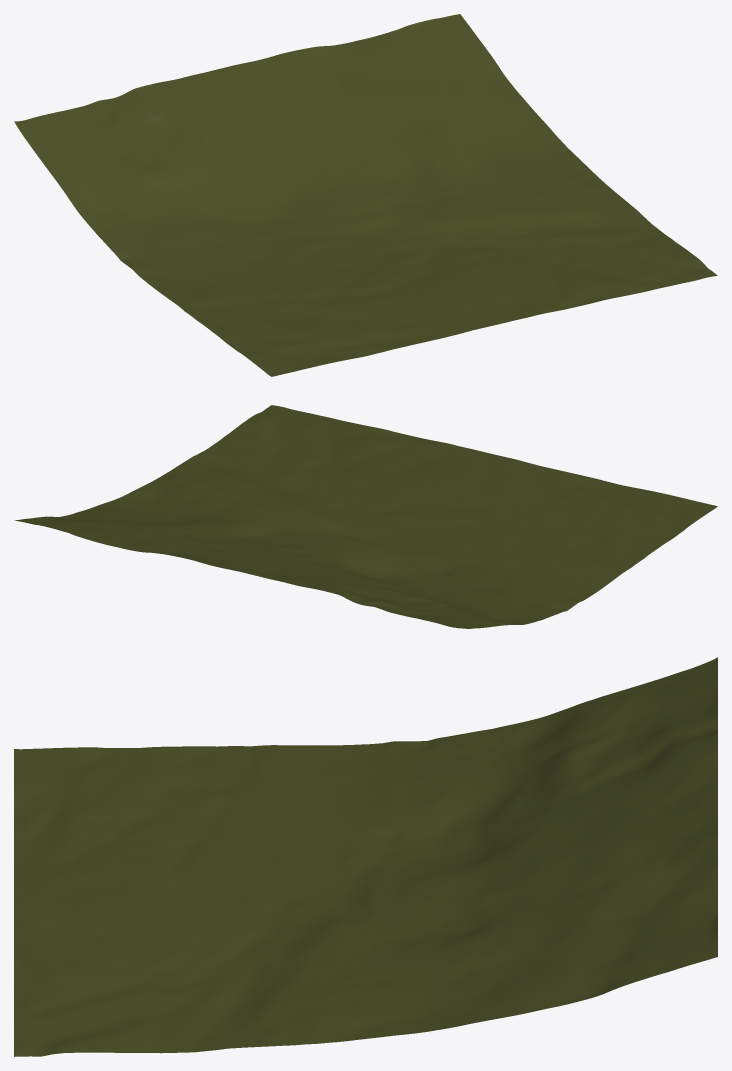
File: terrain_14_-11.glb
The picture shows the model from 3 angles, top to bottom: view 1: azimuth 30°, elevation 25°; view 2: azimuth 150°, elevation 25°; view 3: azimuth 270°, elevation 25°; orthographic projection. The views are drawn at different scales.
Visible parts, largest first — view 1: terrain_14_-11; view 2: terrain_14_-11; view 3: terrain_14_-11.
Part boxes in pixels (<box>): terrain_14_-11: <box>14,14,717,376</box>; terrain_14_-11: <box>14,405,717,628</box>; terrain_14_-11: <box>14,657,717,1056</box>.
Bounding box in the file's own units: 256 × 42.88 × 256.
